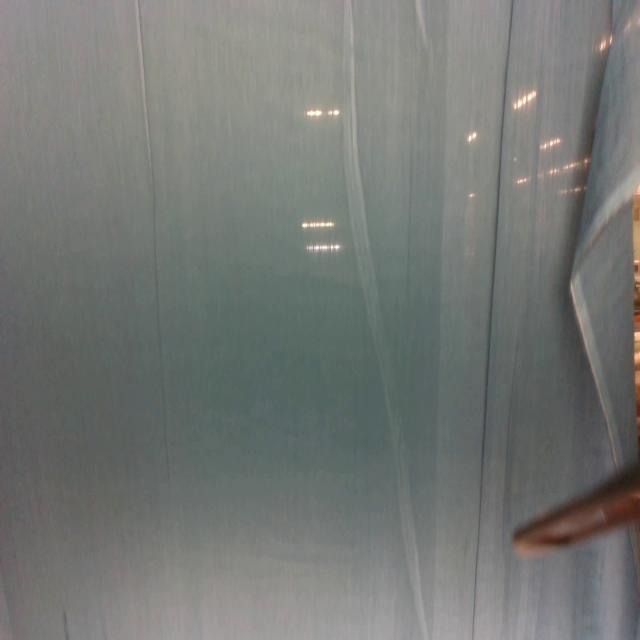crease: (340, 0, 428, 640), (470, 0, 520, 640), (133, 0, 177, 481)
hole: (60, 609, 71, 640)
